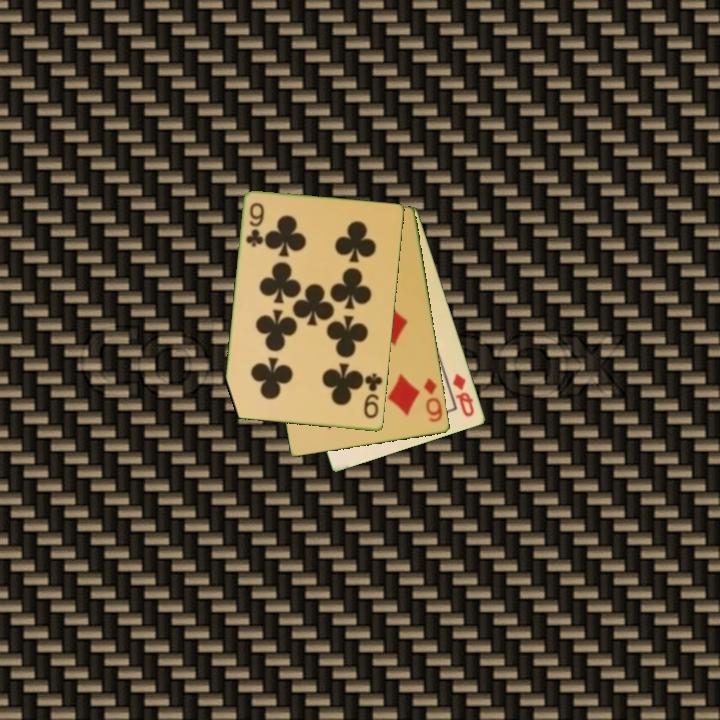6d: (421, 375, 446, 425)
9c: (360, 370, 385, 422), (243, 199, 267, 250)
Qd: (449, 370, 477, 420)
